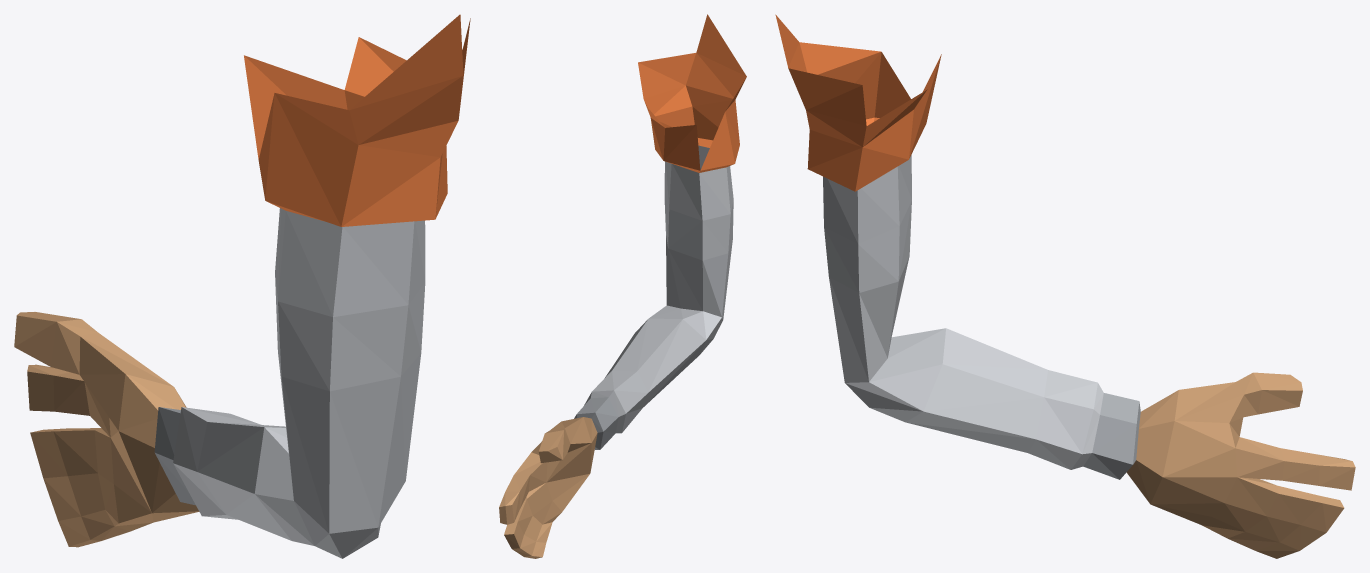
The model's file is Daughter_01_ArmR_72_04_B.obj.
The picture shows the model from 3 angles, left to right: view 1: azimuth 30°, elevation 25°; view 2: azimuth 150°, elevation 25°; view 3: azimuth 270°, elevation 25°; orthographic projection. The views are drawn at different scales.
Parts seen in each view (by area): view 1: Daughter_01_ArmR_72_04_B; view 2: Daughter_01_ArmR_72_04_B; view 3: Daughter_01_ArmR_72_04_B.
Boxes of the visible parts, x1,y1,x2,y2 form: Daughter_01_ArmR_72_04_B: (14,14,470,558); Daughter_01_ArmR_72_04_B: (499,14,746,558); Daughter_01_ArmR_72_04_B: (775,14,1355,558).
Bounding box in the file's own units: 0.1622 × 0.6208 × 0.5901.
Materials: 1 (1 with a texture image).
